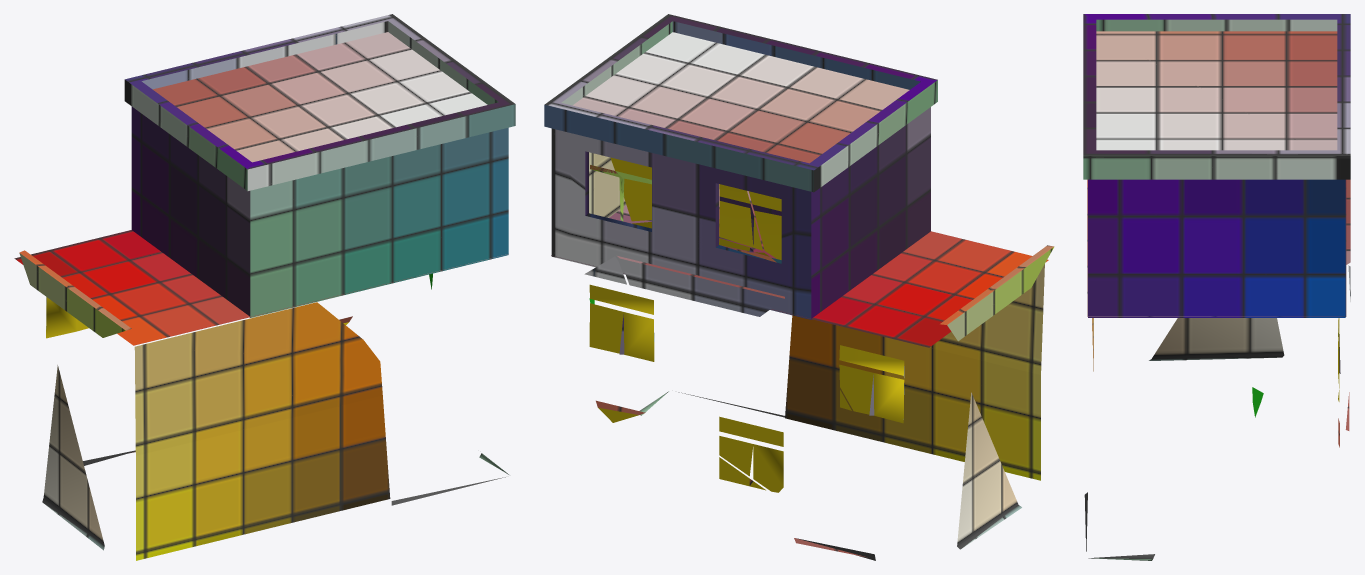
File: BrokenBuilding2.fbx
The picture shows the model from 3 angles, left to right: view 1: azimuth 30°, elevation 25°; view 2: azimuth 150°, elevation 25°; view 3: azimuth 270°, elevation 25°; orthographic projection. The views are drawn at different scales.
Visible parts, largest first — view 1: B1_cell, B1_cell.006, B1_cell.030, B1_cell.035, B1_cell.031, B1_cell.032, B1_cell.021, B1_cell.008, B1_cell.038, B1_cell.037, B1_cell.022; view 2: B1_cell.030, B1_cell.006, B1_cell, B1_cell.021, B1_cell.032, B1_cell.008, B1_cell.037, B1_cell.028, B1_cell.024, B1_cell.022, B1_cell.001, B1_cell.038 (+3 smaller); view 3: B1_cell.030, B1_cell.006, B1_cell.032, B1_cell.021, B1_cell.028, B1_cell.036.
Boxes of the visible parts, left/top/right/bottom form: B1_cell: left=134, top=302, right=390, bottom=560; B1_cell.006: left=131, top=127, right=508, bottom=317; B1_cell.030: left=124, top=14, right=515, bottom=190; B1_cell.035: left=14, top=230, right=508, bottom=344; B1_cell.031: left=46, top=230, right=386, bottom=341; B1_cell.032: left=42, top=365, right=104, bottom=550; B1_cell.021: left=103, top=278, right=408, bottom=345; B1_cell.008: left=131, top=106, right=220, bottom=174; B1_cell.038: left=19, top=250, right=131, bottom=337; B1_cell.037: left=113, top=289, right=311, bottom=345; B1_cell.022: left=46, top=297, right=88, bottom=338; B1_cell.030: left=544, top=14, right=937, bottom=192; B1_cell.006: left=551, top=107, right=930, bottom=319; B1_cell: left=785, top=264, right=1044, bottom=480; B1_cell.021: left=582, top=184, right=1048, bottom=347; B1_cell.032: left=957, top=392, right=1021, bottom=549; B1_cell.008: left=749, top=128, right=901, bottom=262; B1_cell.037: left=625, top=203, right=984, bottom=347; B1_cell.028: left=617, top=256, right=784, bottom=316; B1_cell.024: left=589, top=284, right=654, bottom=361; B1_cell.022: left=839, top=345, right=904, bottom=423; B1_cell.001: left=719, top=416, right=783, bottom=492; B1_cell.038: left=940, top=245, right=1054, bottom=341; B1_cell.030: left=1083, top=14, right=1350, bottom=179; B1_cell.006: left=1088, top=179, right=1345, bottom=317; B1_cell.032: left=1149, top=318, right=1284, bottom=360; B1_cell.021: left=1087, top=180, right=1346, bottom=316; B1_cell.028: left=1346, top=179, right=1350, bottom=264; B1_cell.036: left=1084, top=492, right=1154, bottom=560.
Size of the model in its own units: 50.17 by 46.52 by 27.68.
